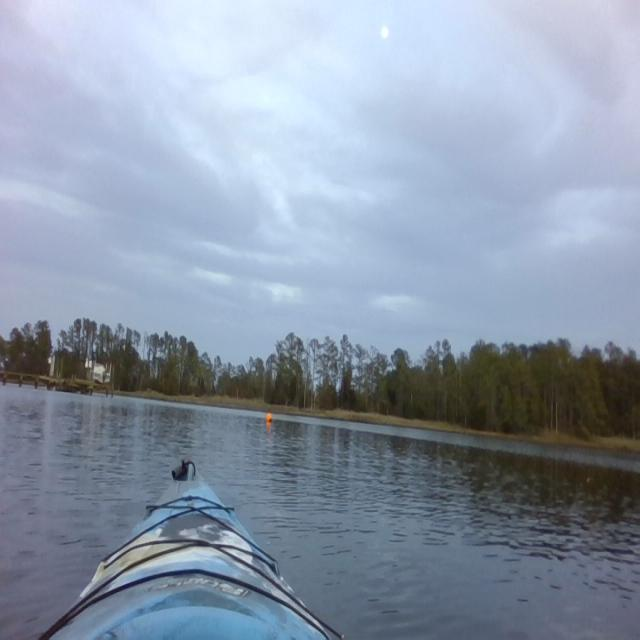Buoy: (265, 410, 274, 426)
